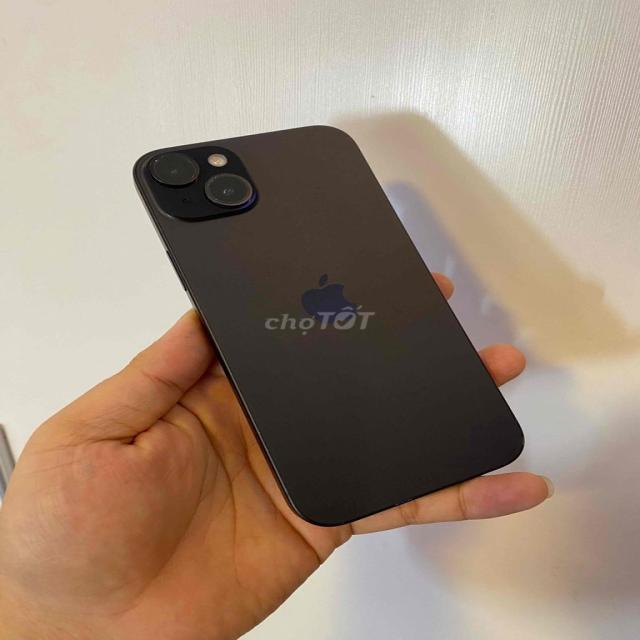gen_15: (113, 118, 543, 532)
scratch: (204, 174, 226, 186), (148, 152, 166, 162), (201, 197, 220, 202)
